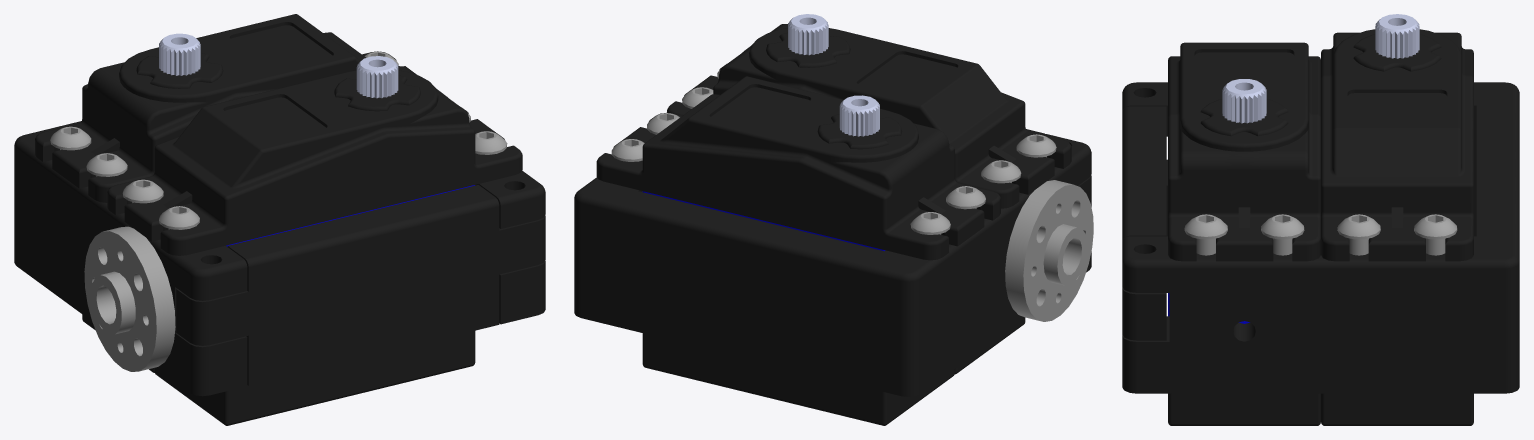
Rendered from rb_shoulder.obj.
The picture shows the model from 3 angles, left to right: view 1: azimuth 30°, elevation 25°; view 2: azimuth 150°, elevation 25°; view 3: azimuth 270°, elevation 25°; orthographic projection. The views are drawn at different scales.
Parts seen in each view (by area): view 1: Body4:1, Body4, Body5, Body4:2, Body1:10, Body2, Body3, Body3:1, Body1:4, Body1:5, Body1:3, Body1:2 (+1 smaller); view 2: Body5, Body4:2, Body4:1, Body1:10, Body2:1, Body3:1, Body3, Body1:2, Body1:3, Body1:4, Body1:5, Body1:9 (+1 smaller); view 3: Body5, Body4:2, Body4:1, Body4, Body2, Body2:1, Body3:1, Body3, Body1:9, Body1:7, Body1:6, Body1:8.
Part boxes in pixels (box(x1,y1,x2,y2)): Body4:1: box(107, 66, 522, 255); Body4: box(176, 184, 545, 385); Body5: box(14, 121, 545, 396); Body4:2: box(35, 14, 447, 202); Body1:10: box(84, 226, 175, 371); Body2: box(154, 331, 475, 425); Body3: box(356, 56, 398, 98); Body3:1: box(159, 33, 200, 75); Body1:4: box(86, 153, 127, 176); Body1:5: box(50, 126, 91, 150); Body1:3: box(122, 179, 163, 203); Body1:2: box(159, 206, 199, 229); Body5: box(574, 134, 1091, 396); Body4:2: box(596, 76, 1000, 260); Body4:1: box(667, 24, 1071, 208); Body1:10: box(1005, 180, 1093, 321); Body2:1: box(642, 333, 954, 425); Body3:1: box(839, 95, 879, 136); Body3: box(788, 14, 828, 55); Body1:2: box(1016, 134, 1056, 157); Body1:3: box(981, 160, 1021, 183); Body1:4: box(946, 186, 985, 209); Body1:5: box(910, 212, 950, 234); Body1:9: box(611, 139, 644, 161); Body5: box(1122, 82, 1519, 393); Body4:2: box(1321, 29, 1473, 261); Body4:1: box(1168, 42, 1320, 261); Body4: box(1122, 106, 1166, 340); Body2: box(1168, 393, 1320, 425); Body2:1: box(1321, 393, 1473, 425); Body3:1: box(1375, 14, 1419, 58); Body3: box(1222, 79, 1266, 123); Body1:9: box(1414, 214, 1457, 255); Body1:7: box(1261, 214, 1304, 255); Body1:6: box(1184, 214, 1227, 255); Body1:8: box(1337, 214, 1380, 255).
Size of the model in its own units: 0.0617 by 0.0445 by 0.052.
